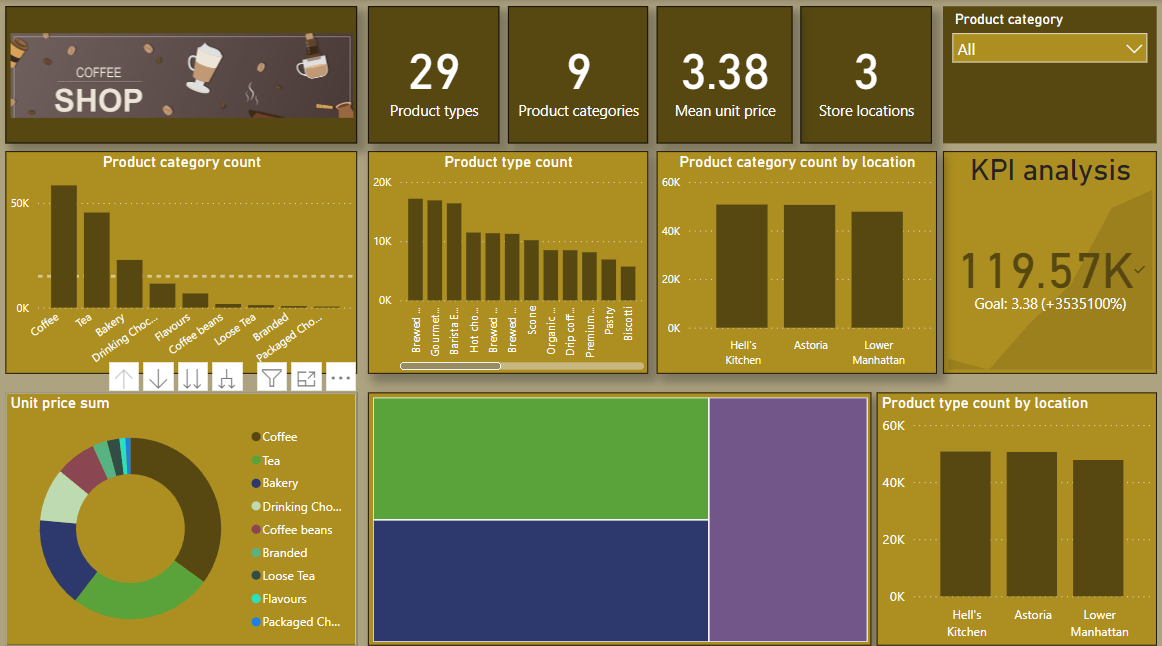

Layout of this report page (visuals, bound fields, positions):
{"tool":"powerbi","page":{"name":"main-visuals-1","canvas":[1280,720],"ordinal":3},"visuals":[{"type":"image","box":[7.8,6.8,385.8,150.6],"z":0},{"type":"card","fields":{"Values":["Count(working_report.product_type)"]},"box":[405.3,6.8,143.8,150.6],"z":1000},{"type":"card","fields":{"Values":["Count(working_report.store_location)"]},"box":[879.6,6.8,143.8,150.6],"z":2000},{"type":"card","fields":{"Values":["Count(working_report.product_category)"]},"box":[558.8,6.8,153.6,150.6],"z":3000},{"type":"card","fields":{"Values":["Avg(working_report.unit_price)"]},"box":[723.1,6.8,148.7,150.6],"z":4000},{"type":"slicer","fields":{"Values":["working_report.product_category"]},"box":[1037,6.8,234.2,150.6],"z":5000},{"type":"columnChart","title":"Product type count","fields":{"Category":["working_report.product_type"],"Y":["CountNonNull(working_report.product_type)"]},"box":[405.3,166.2,307.1,243.9],"z":6000},{"type":"columnChart","title":"Product category count","fields":{"Category":["working_report.product_category"],"Y":["CountNonNull(working_report.product_category)"]},"box":[7.8,166.2,385.8,243.9],"z":7000},{"type":"treemap","fields":{"Values":["CountNonNull(working_report.product_type)"],"Group":["working_report.store_location","working_report.product_category"]},"box":[405.3,430.6,552,278],"z":8000},{"type":"donutChart","title":"Unit price sum","fields":{"Category":["working_report.product_category","working_report.product_type"],"Y":["Sum(working_report.unit_price)"]},"box":[7.8,430.6,385.8,278],"z":9000},{"type":"kpi","title":"KPI analysis","fields":{"Indicator":["Sum(working_report.unit_price)"],"Goal":["Avg(working_report.unit_price)"],"TrendLine":["working_report.transaction_date.Variation.Date Hierarchy.Month"]},"box":[1037,166.2,234.2,243.9],"z":10000},{"type":"columnChart","title":"Product  type count by location","fields":{"Category":["working_report.store_location"],"Y":["CountNonNull(working_report.product_type)"]},"box":[964.1,430.6,307.1,278],"z":11000},{"type":"columnChart","title":"Product category count by location","fields":{"Category":["working_report.store_location"],"Y":["CountNonNull(working_report.product_category)"]},"box":[723.1,166.2,307.1,243.9],"z":12000}]}

Visuals, with their boxes in screenshot pixels (x1, y1, x2, y2), scaled from the page's 1280x720 canvas onto the 1162x646 screenshot:
image: 7/6/357/141
card - Count(working_report.product_type): 368/6/498/141
card - Count(working_report.store_location): 799/6/929/141
card - Count(working_report.product_category): 507/6/647/141
card - Avg(working_report.unit_price): 656/6/791/141
slicer - working_report.product_category: 941/6/1154/141
"Product type count" columnChart: 368/149/647/368
"Product category count" columnChart: 7/149/357/368
treemap - CountNonNull(working_report.product_type) x working_report.store_location: 368/386/869/636
"Unit price sum" donutChart: 7/386/357/636
"KPI analysis" kpi: 941/149/1154/368
"Product  type count by location" columnChart: 875/386/1154/636
"Product category count by location" columnChart: 656/149/935/368
